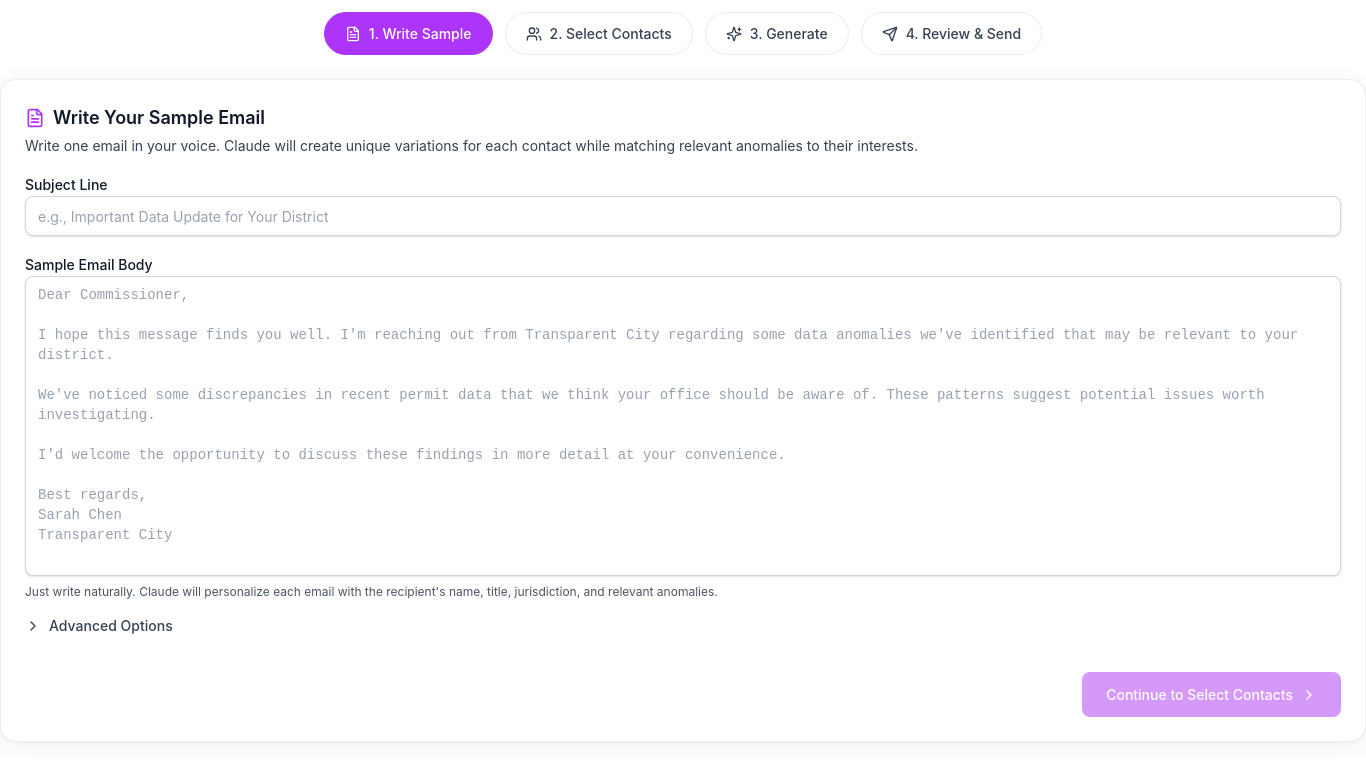
AIEmailComposer › Select All Filtered selects all visible contacts
Type "Hi there, here is some data we found." into the text box with placeholder "Dear Commissioner".
click(683, 426); type("Hi there, here is some data we found.")  # box [25,276,1341,576]
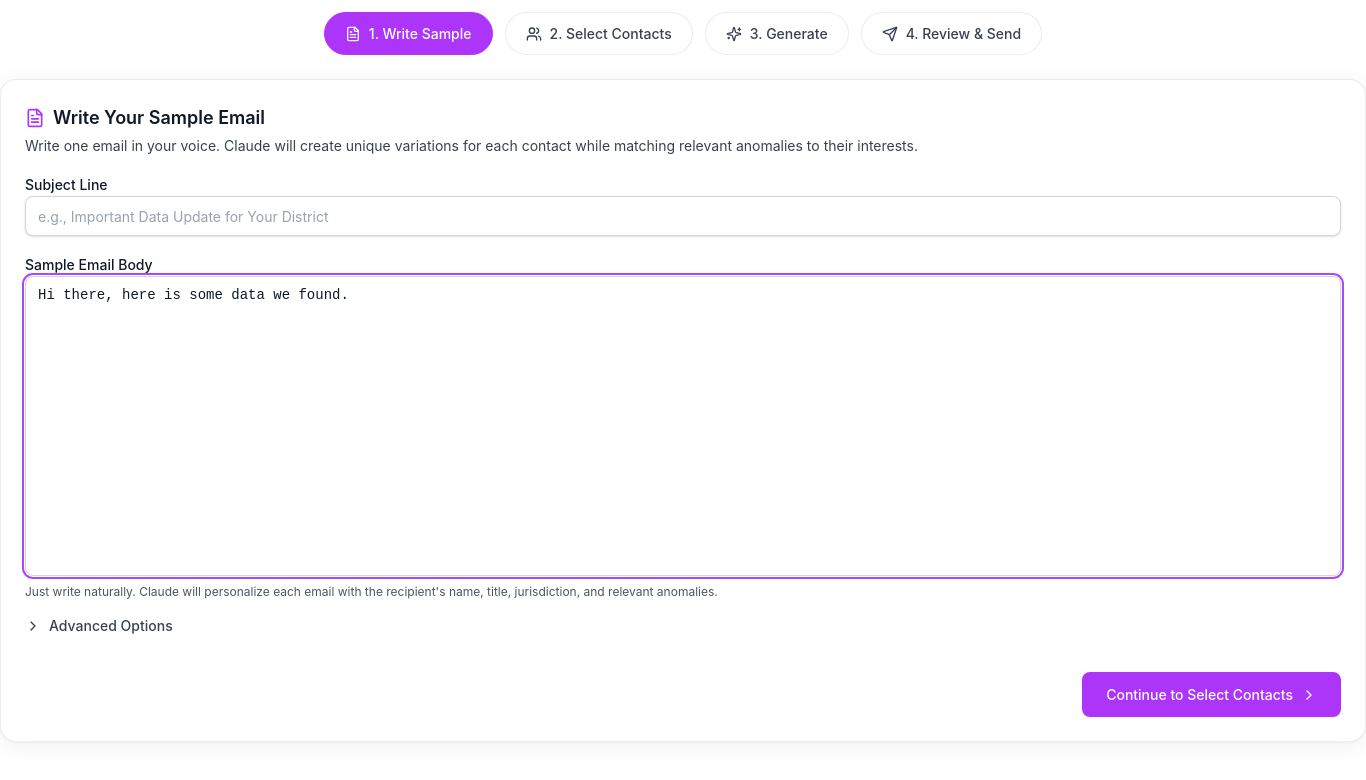
Type "Data update for your district" into the field with placeholder "e.g., Important Data Update for Your District".
click(683, 216); type("Data update for your district")  # box [25,196,1341,236]
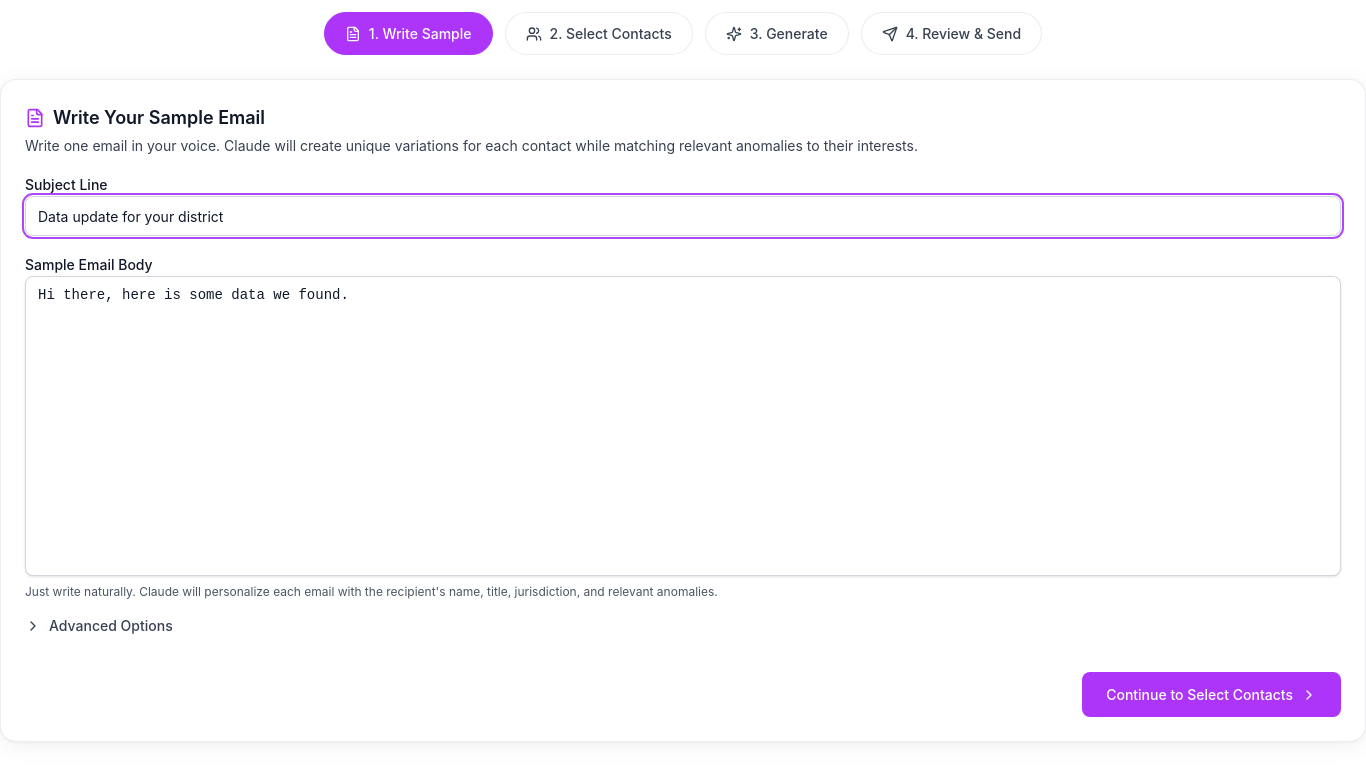
Click the button "Continue to Select Contacts".
click(1212, 694)  # box [1082,672,1341,717]
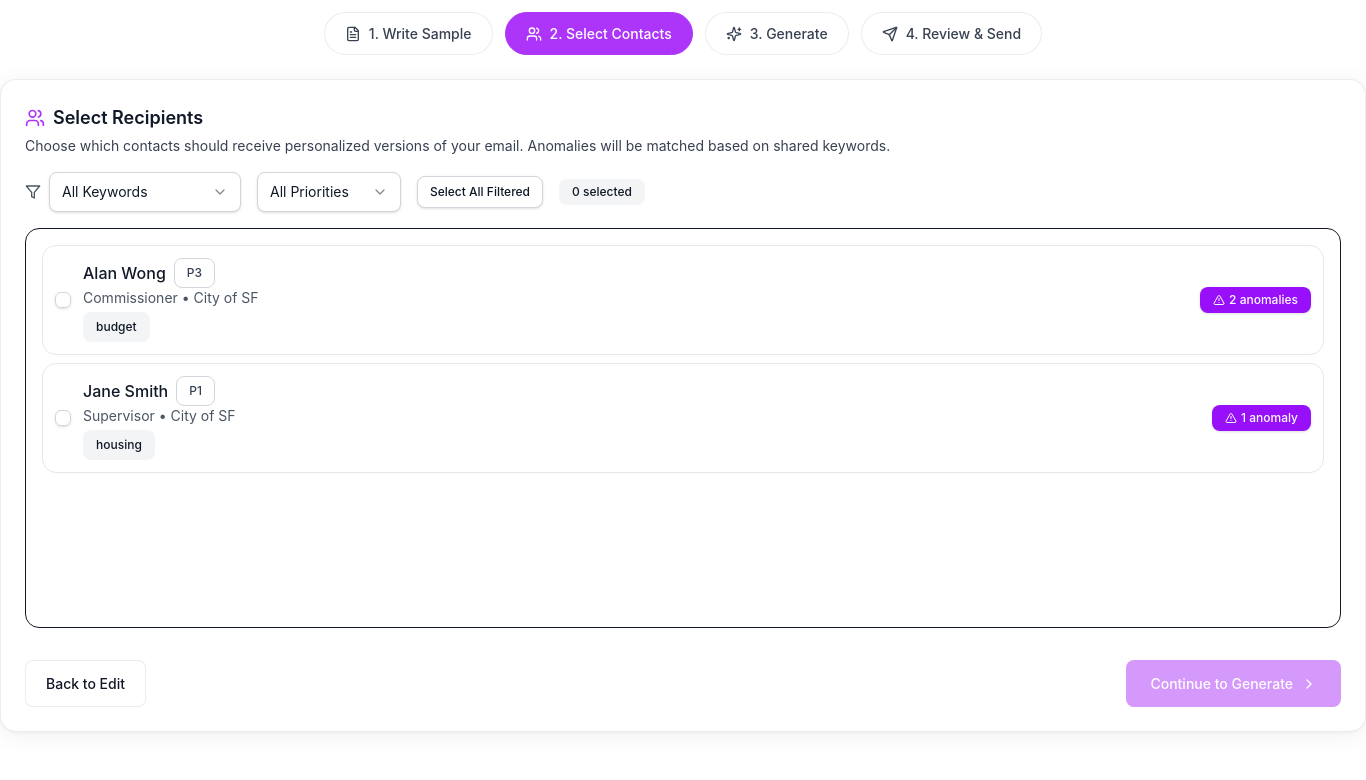
Click the button "Select All Filtered".
click(480, 192)  # box [417,176,543,208]
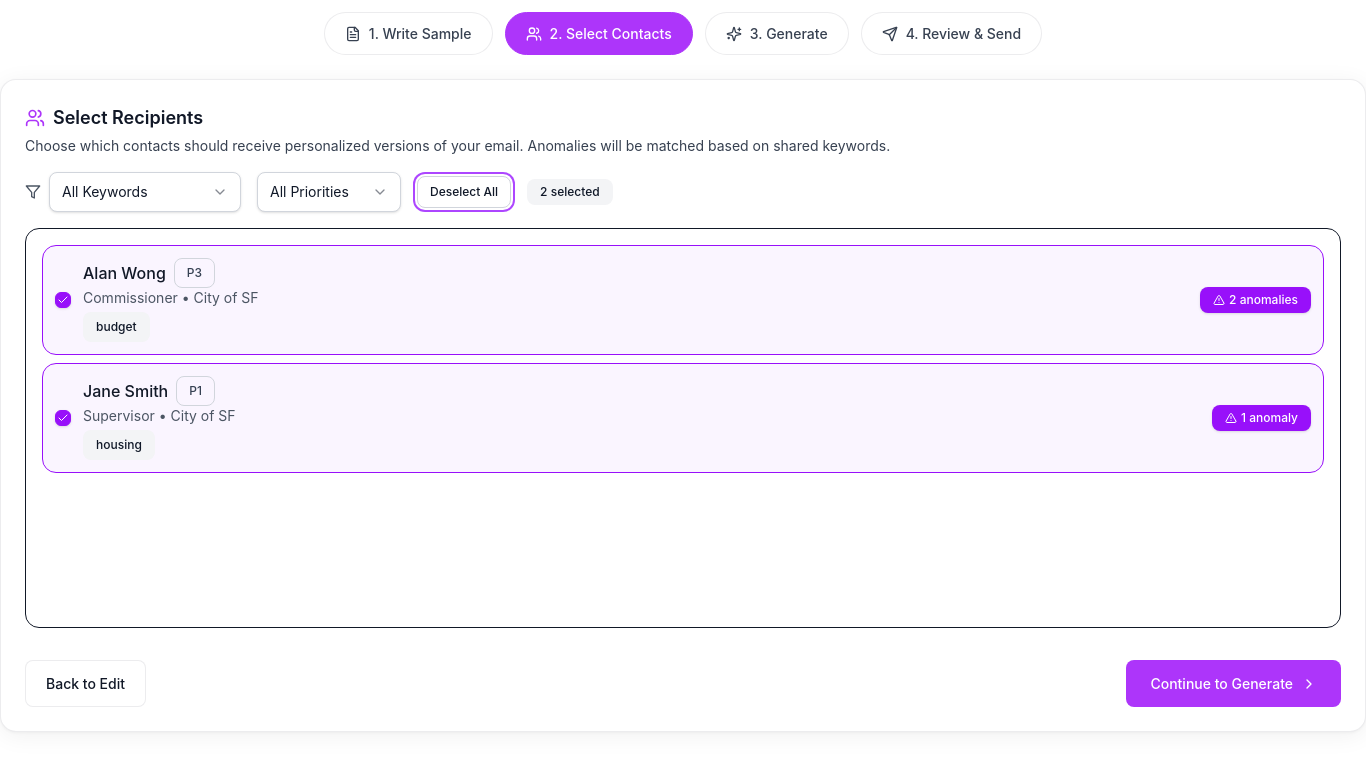
Now the text "2 selected" is shown, box [527,179,613,205]
